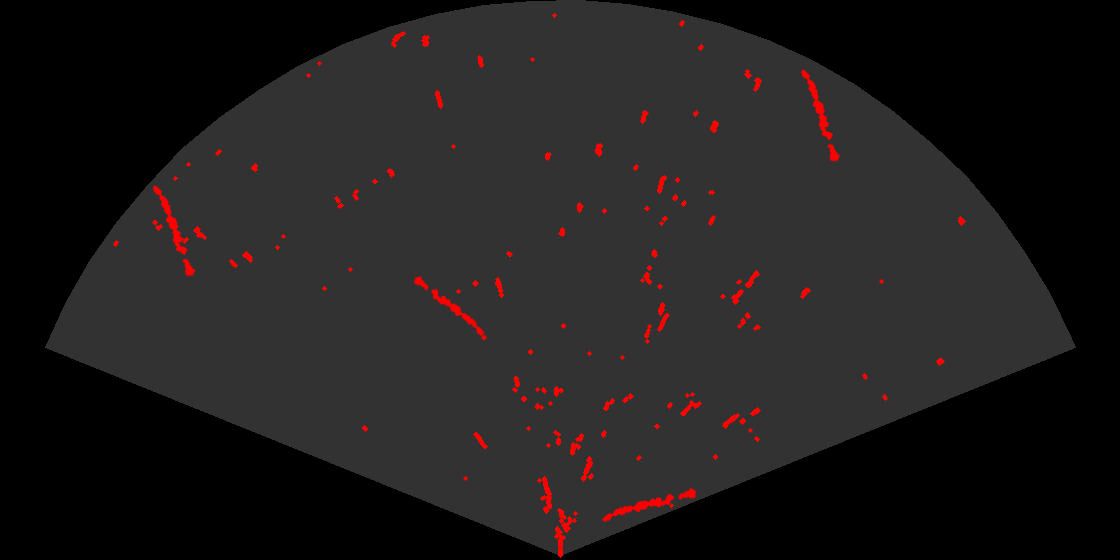chain: (407, 271, 485, 338), (151, 184, 197, 279), (799, 68, 841, 164), (601, 486, 699, 523)
